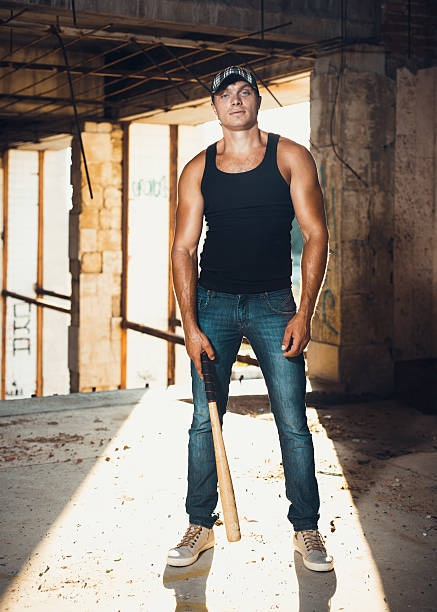bita: (197, 341, 253, 549)
